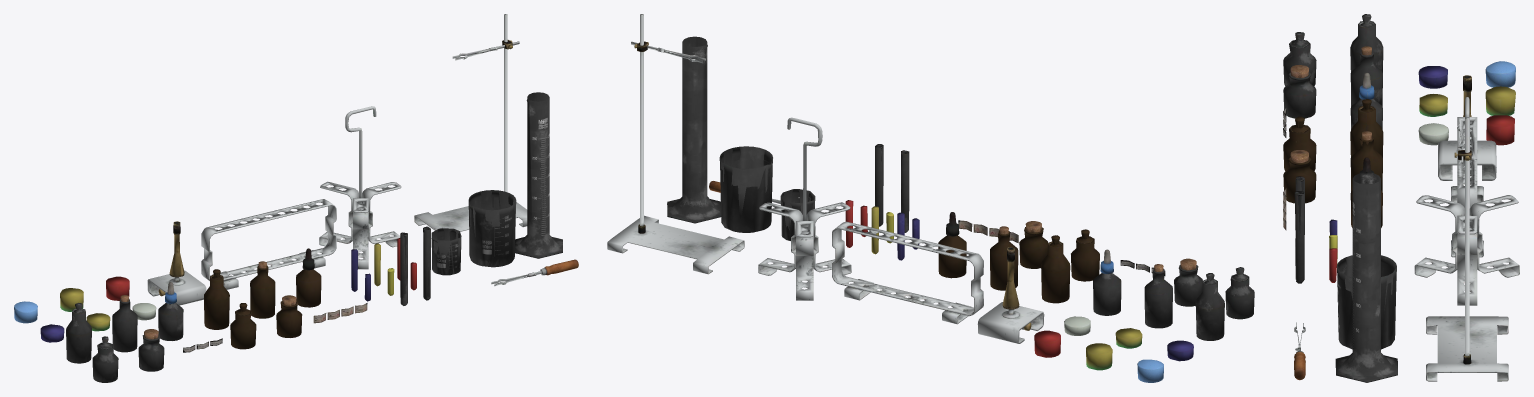
File: chemistry_set.glb
3 renders of one model, left to right at view 1: azimuth 30°, elevation 25°; view 2: azimuth 150°, elevation 25°; view 3: azimuth 270°, elevation 25°, orthographic. The views are drawn at different scales.
Parts seen in each view (by area): view 1: chemistry_set_beaker_large, chemistry_set_test_tube_content_b; view 2: chemistry_set_beaker_large, chemistry_set_test_tube_content_b; view 3: chemistry_set_beaker_large, chemistry_set_test_tube_content_b.
Boxes of the visible parts, x1,y1,x2,y2 form: chemistry_set_beaker_large: (40, 92, 562, 382); chemistry_set_test_tube_content_b: (14, 14, 578, 339); chemistry_set_beaker_large: (667, 36, 1254, 370); chemistry_set_test_tube_content_b: (607, 14, 1196, 382); chemistry_set_beaker_large: (1283, 14, 1515, 382); chemistry_set_test_tube_content_b: (1290, 46, 1519, 381).
Bounding box in the file's own units: 1.08 × 0.4281 × 0.3534.
2 materials, 2 textured.
